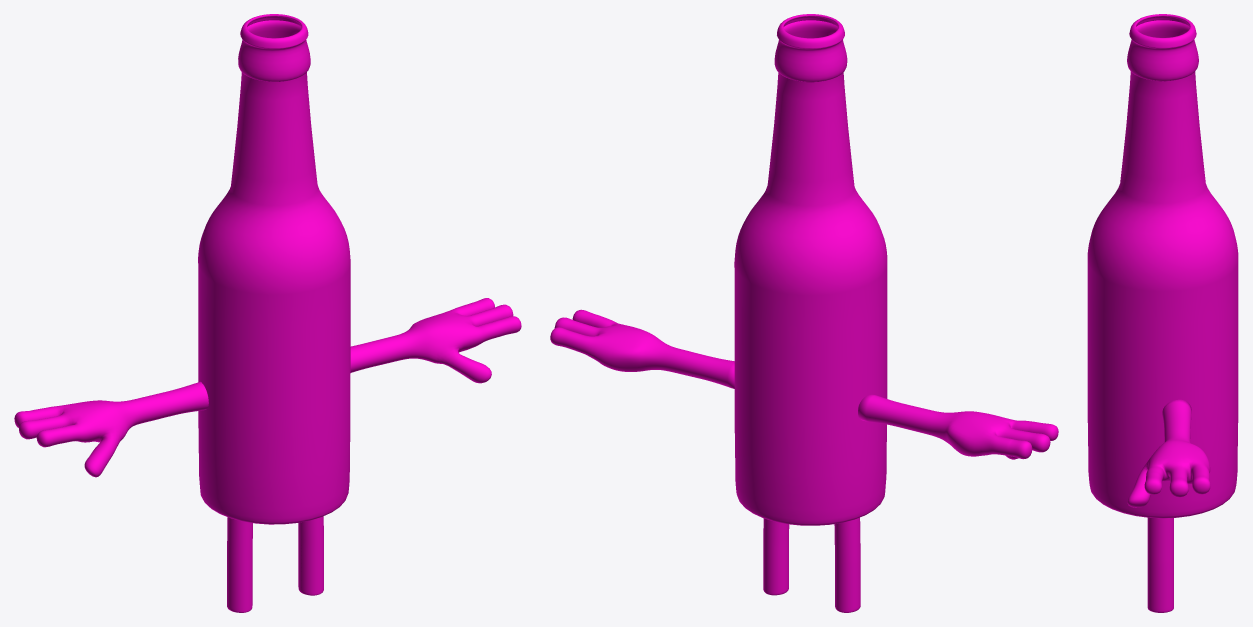
File: MashyFF14Mask.glb
3 renders of one model, left to right at view 1: azimuth 30°, elevation 25°; view 2: azimuth 150°, elevation 25°; view 3: azimuth 270°, elevation 25°, orthographic.
Visible parts, largest first — view 1: BottleMask; view 2: BottleMask; view 3: BottleMask.
Part boxes in pixels (x1,y1,x2,y2): BottleMask: [14, 14, 521, 612]; BottleMask: [550, 14, 1058, 612]; BottleMask: [1087, 14, 1238, 612].
Size of the model in its own units: 2.72 by 3.03 by 0.735.
